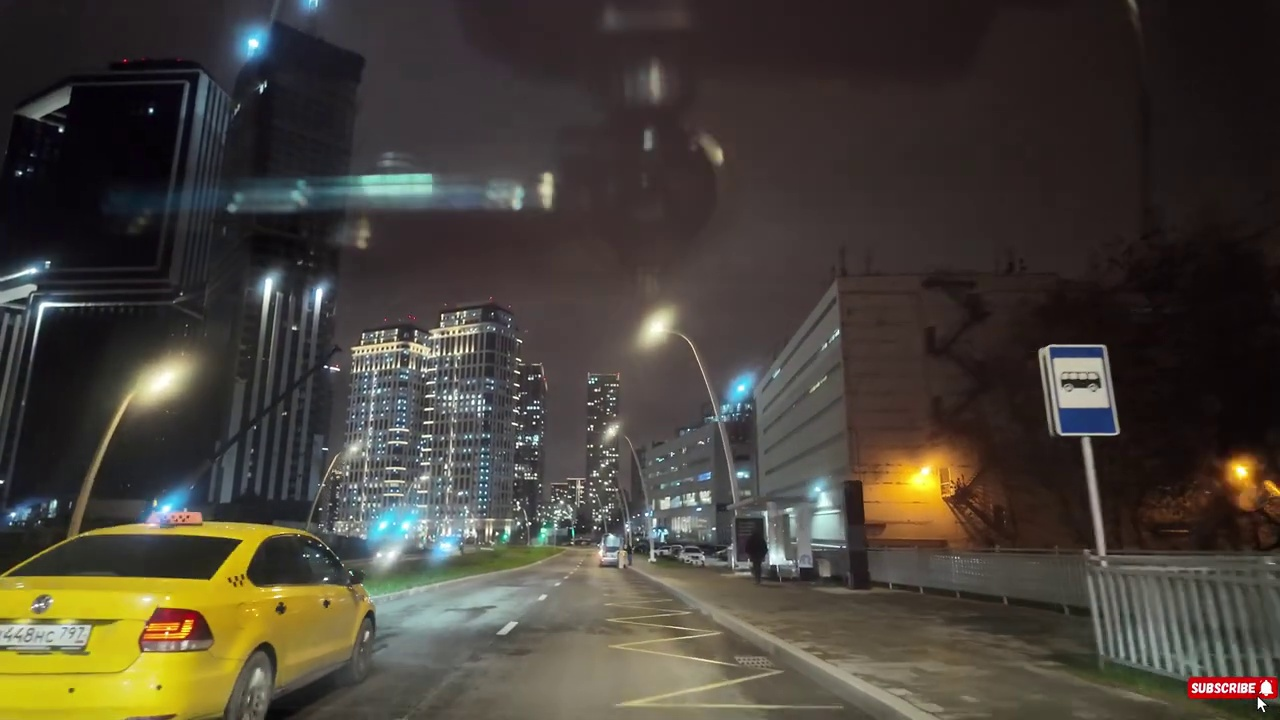acesa: (130, 357, 189, 409), (891, 459, 944, 509), (633, 306, 680, 356)
